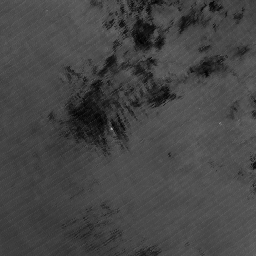Target: (107, 125, 115, 132)
